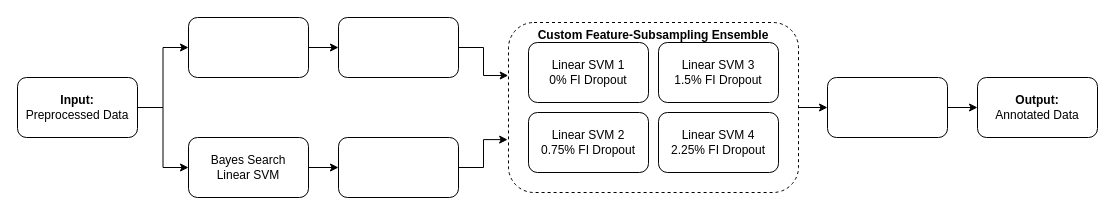
This 1115x215 diagram has some shape labels left out. The centre of each missing label's shape, as x and y in pixels:
"Extract Feature Importance (FI)" goes at point 398,47.
"Optimal Hyperparameters" goes at point 398,167.
"Soft Voting" goes at point 887,107.
"Train Random Forest" goes at point 248,47.
